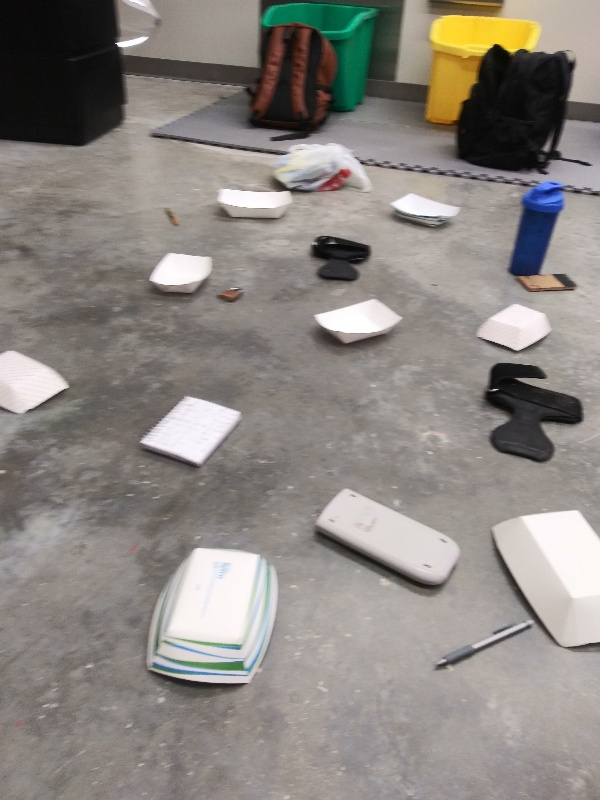plate: (139, 546, 289, 692), (486, 505, 600, 652), (311, 296, 407, 350), (1, 349, 73, 419), (471, 302, 556, 355), (146, 246, 219, 300), (386, 189, 467, 232), (214, 184, 295, 224)
